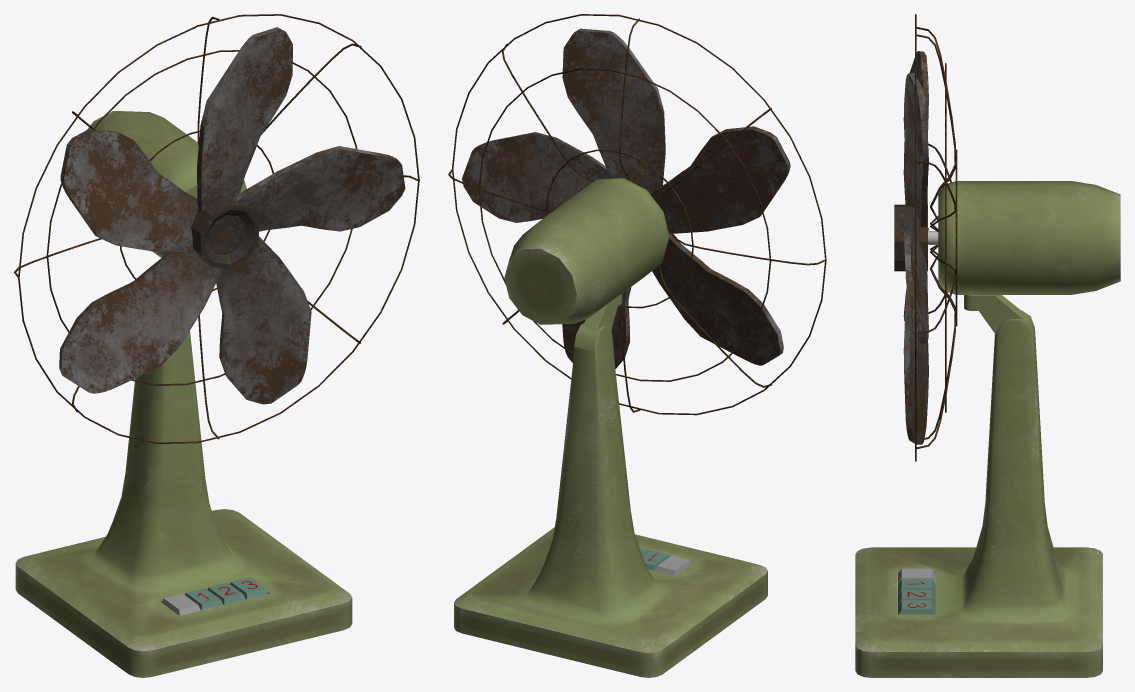
The model's file is Fan.fbx.
3 renders of one model, left to right at view 1: azimuth 30°, elevation 25°; view 2: azimuth 150°, elevation 25°; view 3: azimuth 270°, elevation 25°, orthographic. The views are drawn at different scales.
Parts seen in each view (by area): view 1: _FAN; view 2: _FAN; view 3: _FAN.
Part boxes in pixels (x1,y1,x2,y2): _FAN: [14, 14, 419, 677]; _FAN: [448, 14, 826, 677]; _FAN: [855, 14, 1120, 677].
Size of the model in its own units: 51.36 by 74.69 by 30.31.
Materials: 1 (1 with a texture image).
